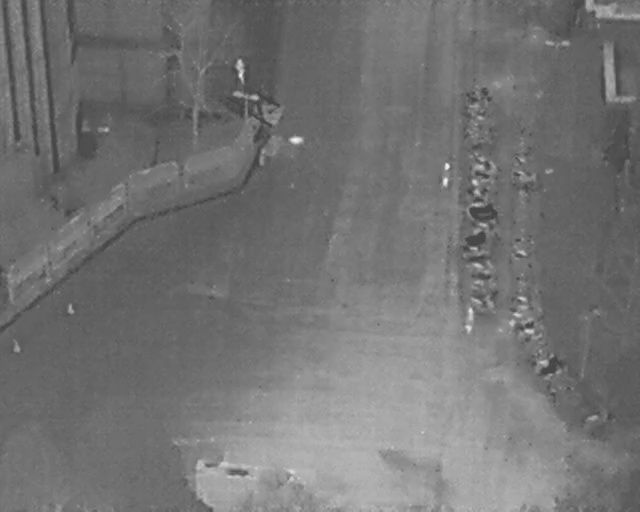Bicycle: (467, 286, 499, 313), (530, 349, 561, 375), (467, 149, 496, 173), (466, 203, 499, 224), (537, 358, 565, 381), (467, 165, 494, 187), (462, 227, 489, 249), (463, 84, 493, 103), (509, 166, 538, 184), (465, 250, 492, 269), (466, 185, 492, 202), (469, 269, 494, 285), (514, 320, 538, 336), (507, 303, 532, 317), (466, 106, 489, 120), (512, 247, 530, 260)
Person: (231, 54, 247, 85), (440, 159, 453, 191), (464, 306, 475, 335)
